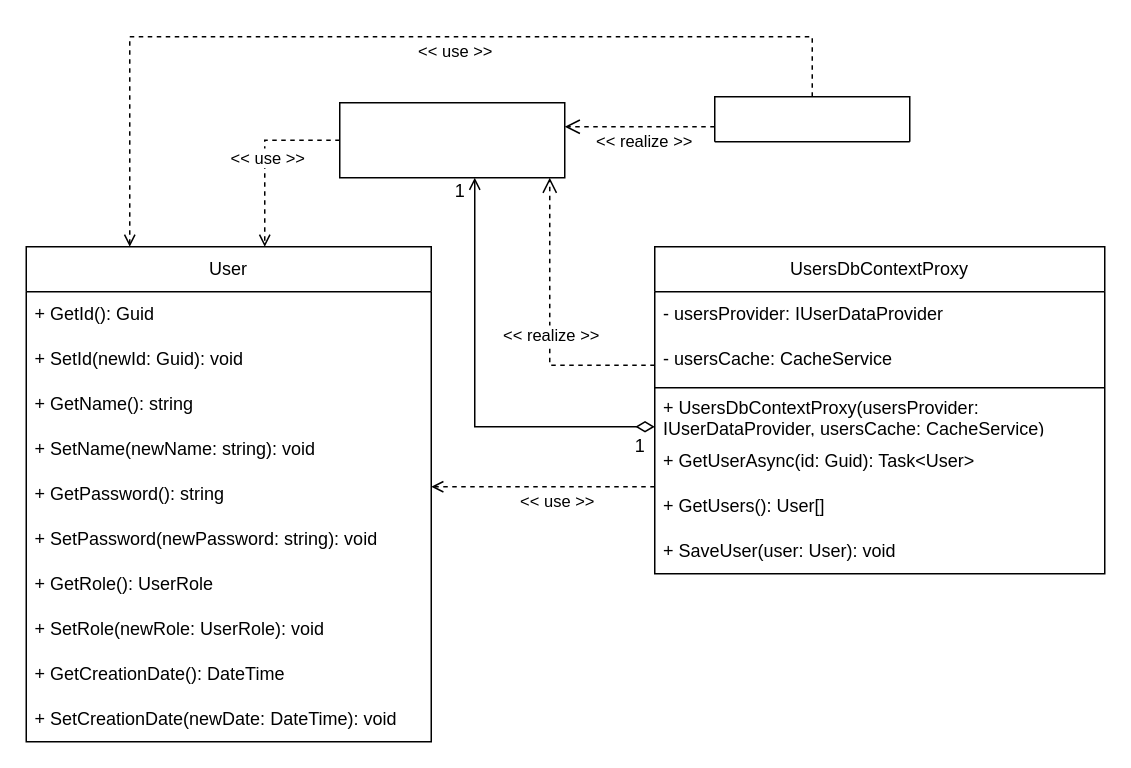
Some shapes in this 1131 by 768 pixel diagram are drawn without their labels. The shapes that lost their labels are listed below. From the top down, each one's centre as x and y in pixels, then its label:
(811,118): UsersDbContext
(451,139): « Interface » IUserDataProvider
